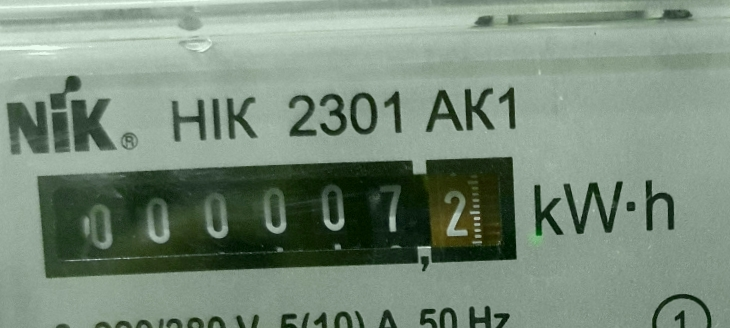0: (139, 192, 176, 246), (315, 181, 349, 235), (83, 199, 117, 251), (258, 183, 290, 237), (200, 188, 232, 241)
2: (439, 187, 472, 239)
7: (374, 180, 406, 236)
screen: (19, 137, 537, 298)
